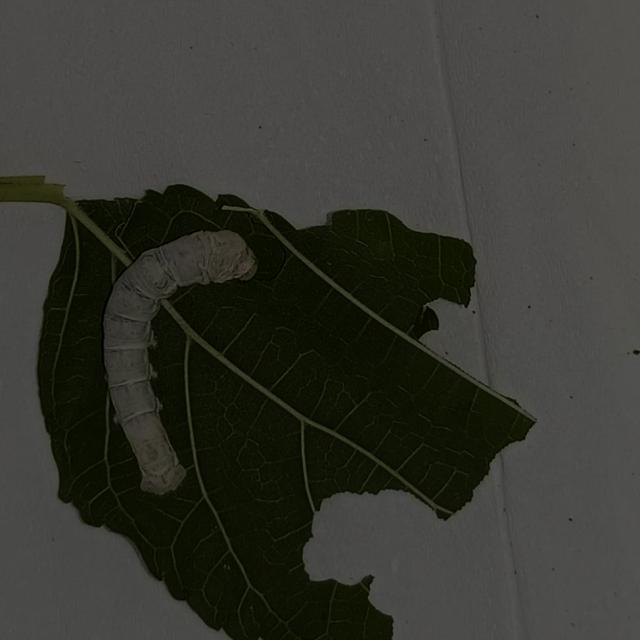Healthy: (94, 199, 279, 505)
